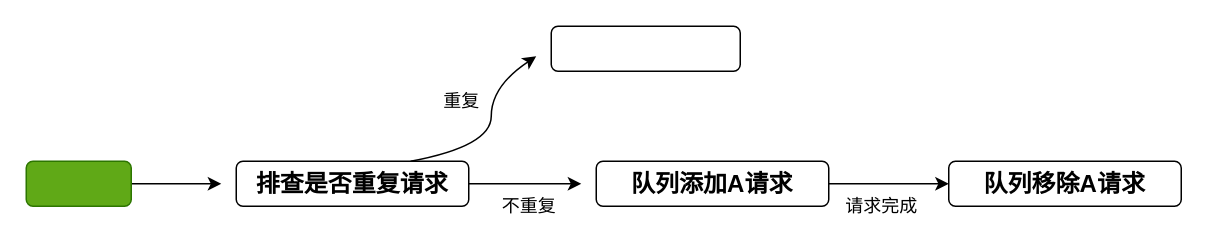
The diagram is 1208 pixels wide and 248 high, and some of its shapes have lost their labels. Each missing label, with the centre of its shape:
"取消前置A请求" belongs at [645,48].
"请求A" belongs at [78,183].
